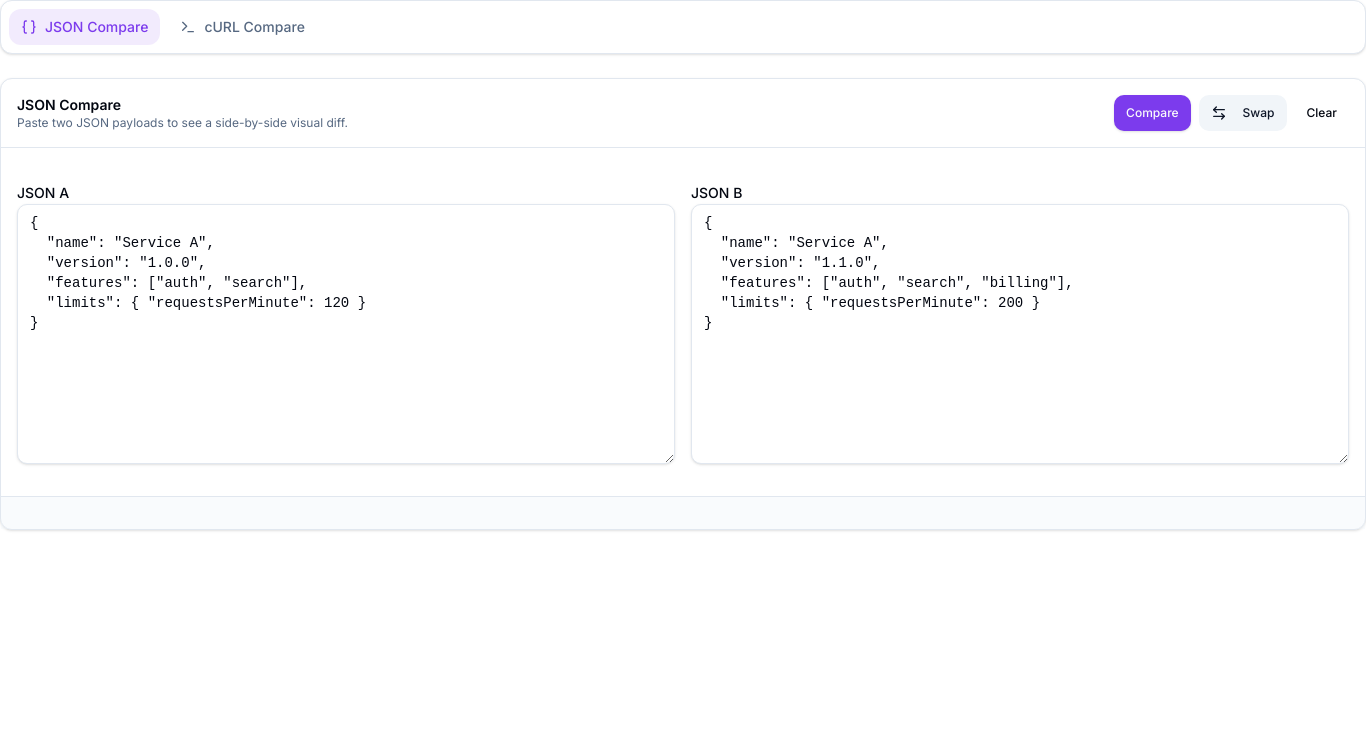
Test: CompareTools › compares JSON and shows differences
This screenshot has width=1366, height=756.
Click the button "Compare" at [1152, 113], box [1114,95,1191,131]
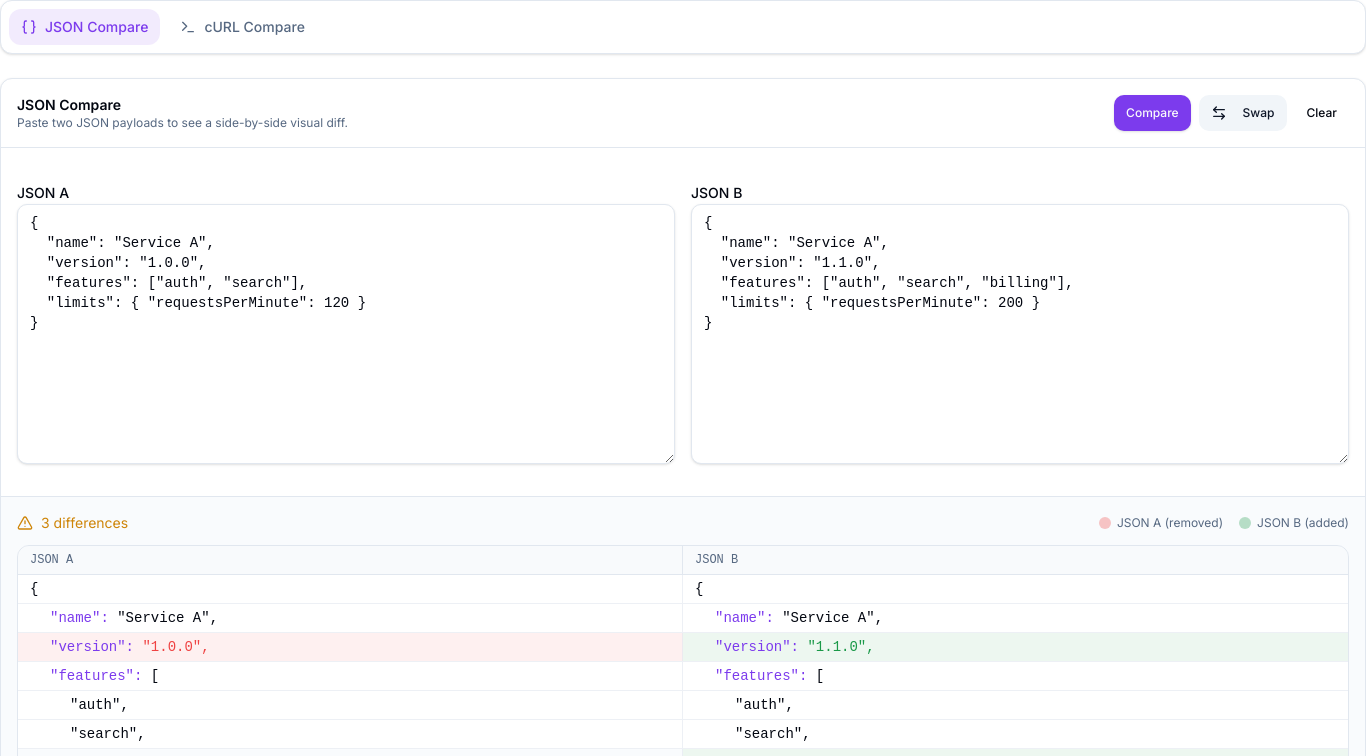
expect the text "3 differences" is shown: met, box [41,513,128,533]
